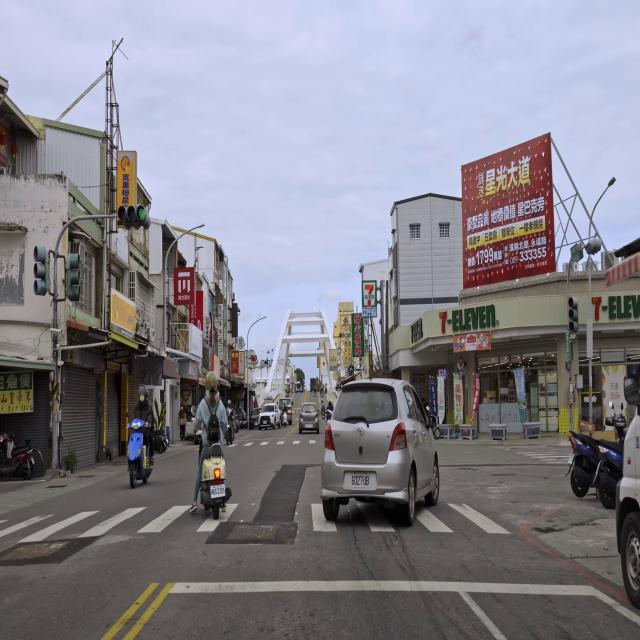green light: (118, 205, 148, 222)
